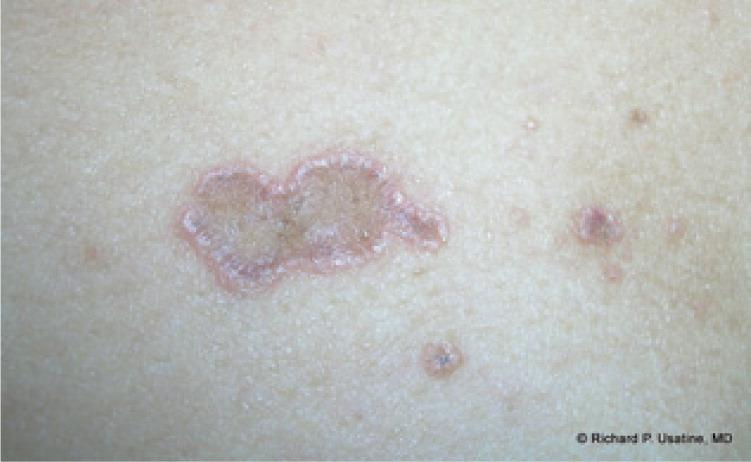annular lichen planus: (139, 69, 503, 388)
